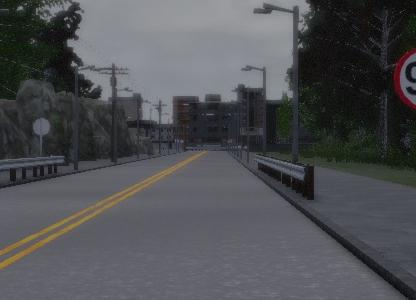Speed_90: (392, 40, 416, 117)
